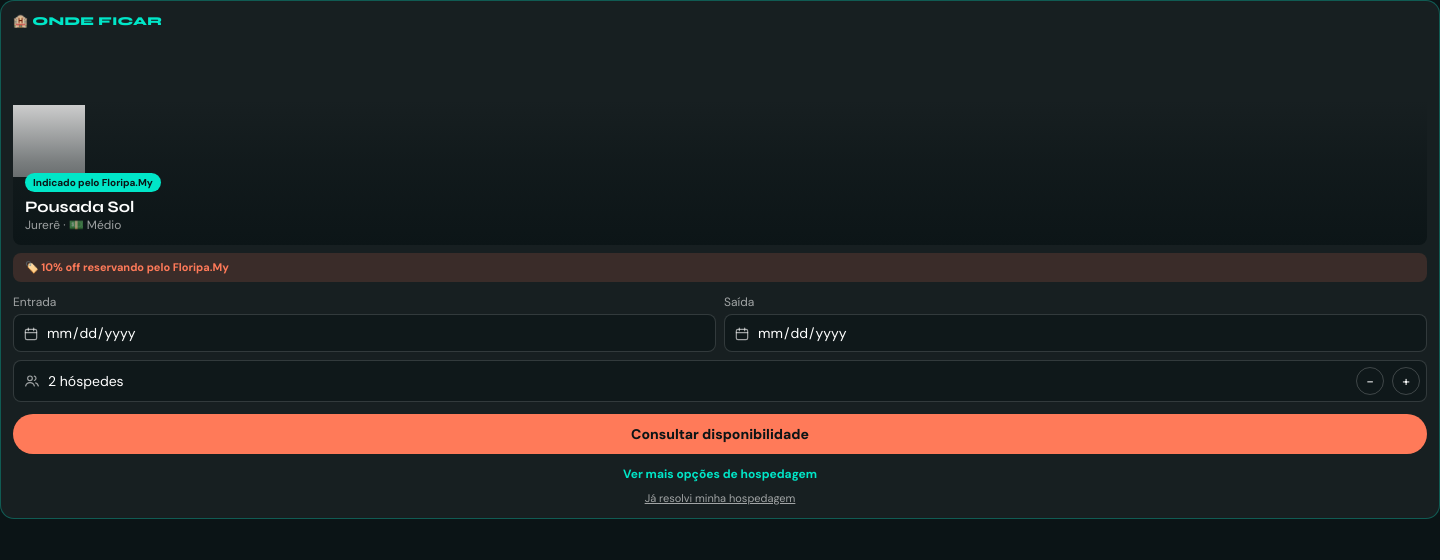
Scenario: LodgingCard › blocks the buttons while only one date is filled
In the date field labelled "Entrada": (364, 332) [13, 314, 716, 352], type "2027-01-12"
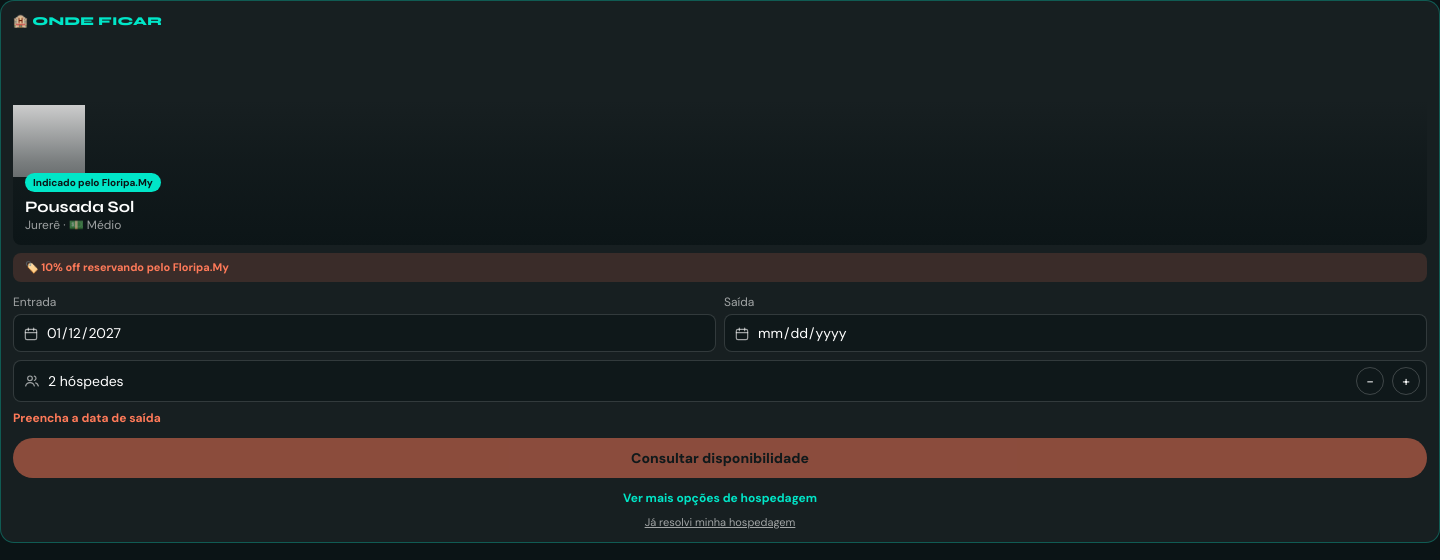
Expected: the button "Consultar disponibilidade" is disabled, [13, 438, 1427, 478]
Now the text "Preencha a data de saída" is shown, box [13, 410, 161, 426]
